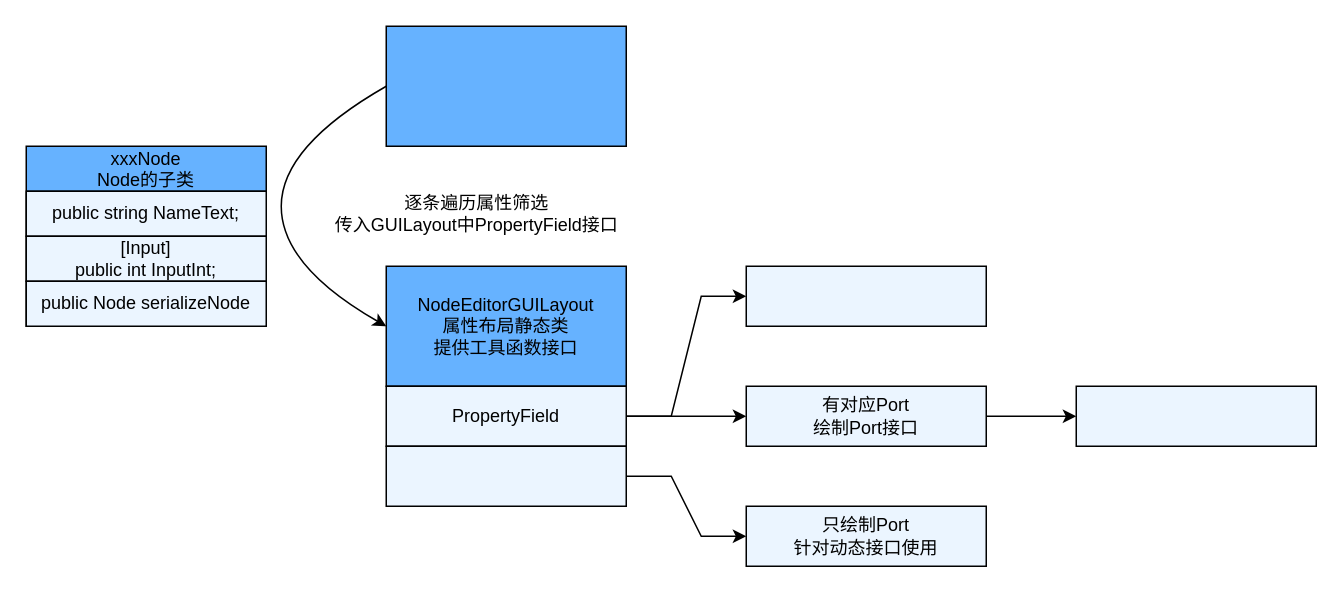
Some shapes in this 1343 by 593 pixel diagram are drawn without their labels. Each missing label, with the centre of its shape:
NodeEditor: point (505, 85)
PortField: point (505, 475)
如果没有对应Port 直接调用引擎的属性显示: point (865, 295)
根据Attribute参数 绘制各种控件样式: point (1195, 415)
